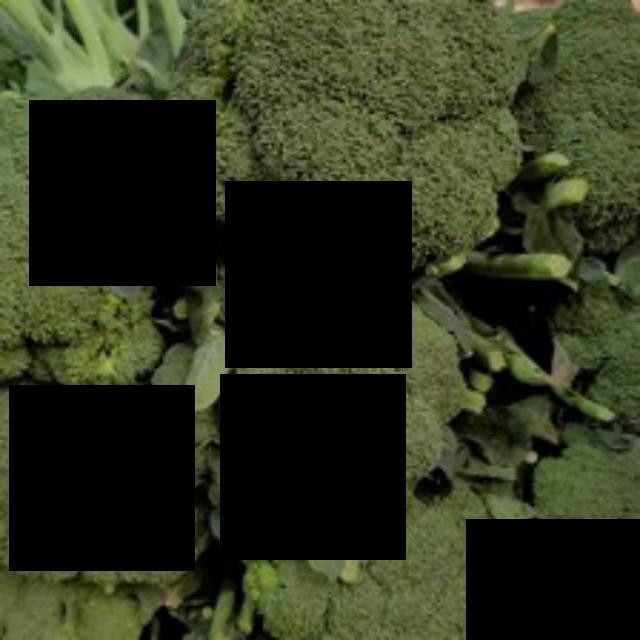broccoli: (145, 222, 483, 552)
